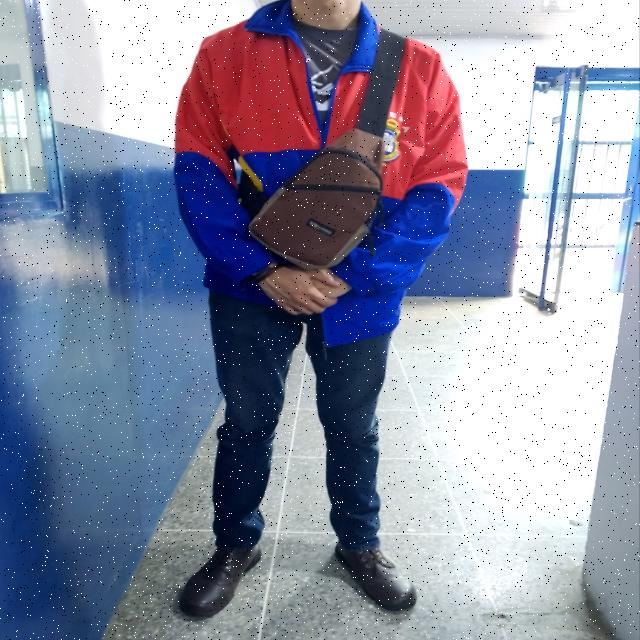chaqueta_unefa: (173, 0, 468, 350)
pantalon_oscuro: (206, 291, 394, 553)
